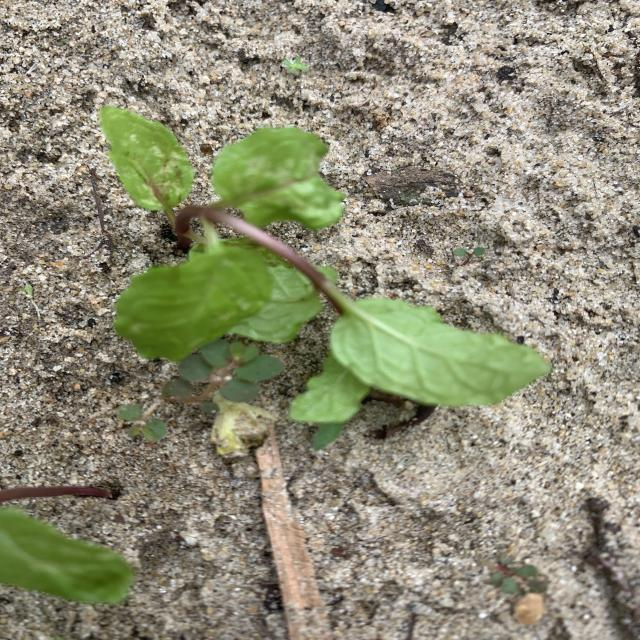crop: (101, 106, 550, 432), (1, 491, 135, 603)
weed: (117, 339, 283, 442), (486, 559, 547, 595), (453, 247, 486, 265), (281, 57, 309, 76)
